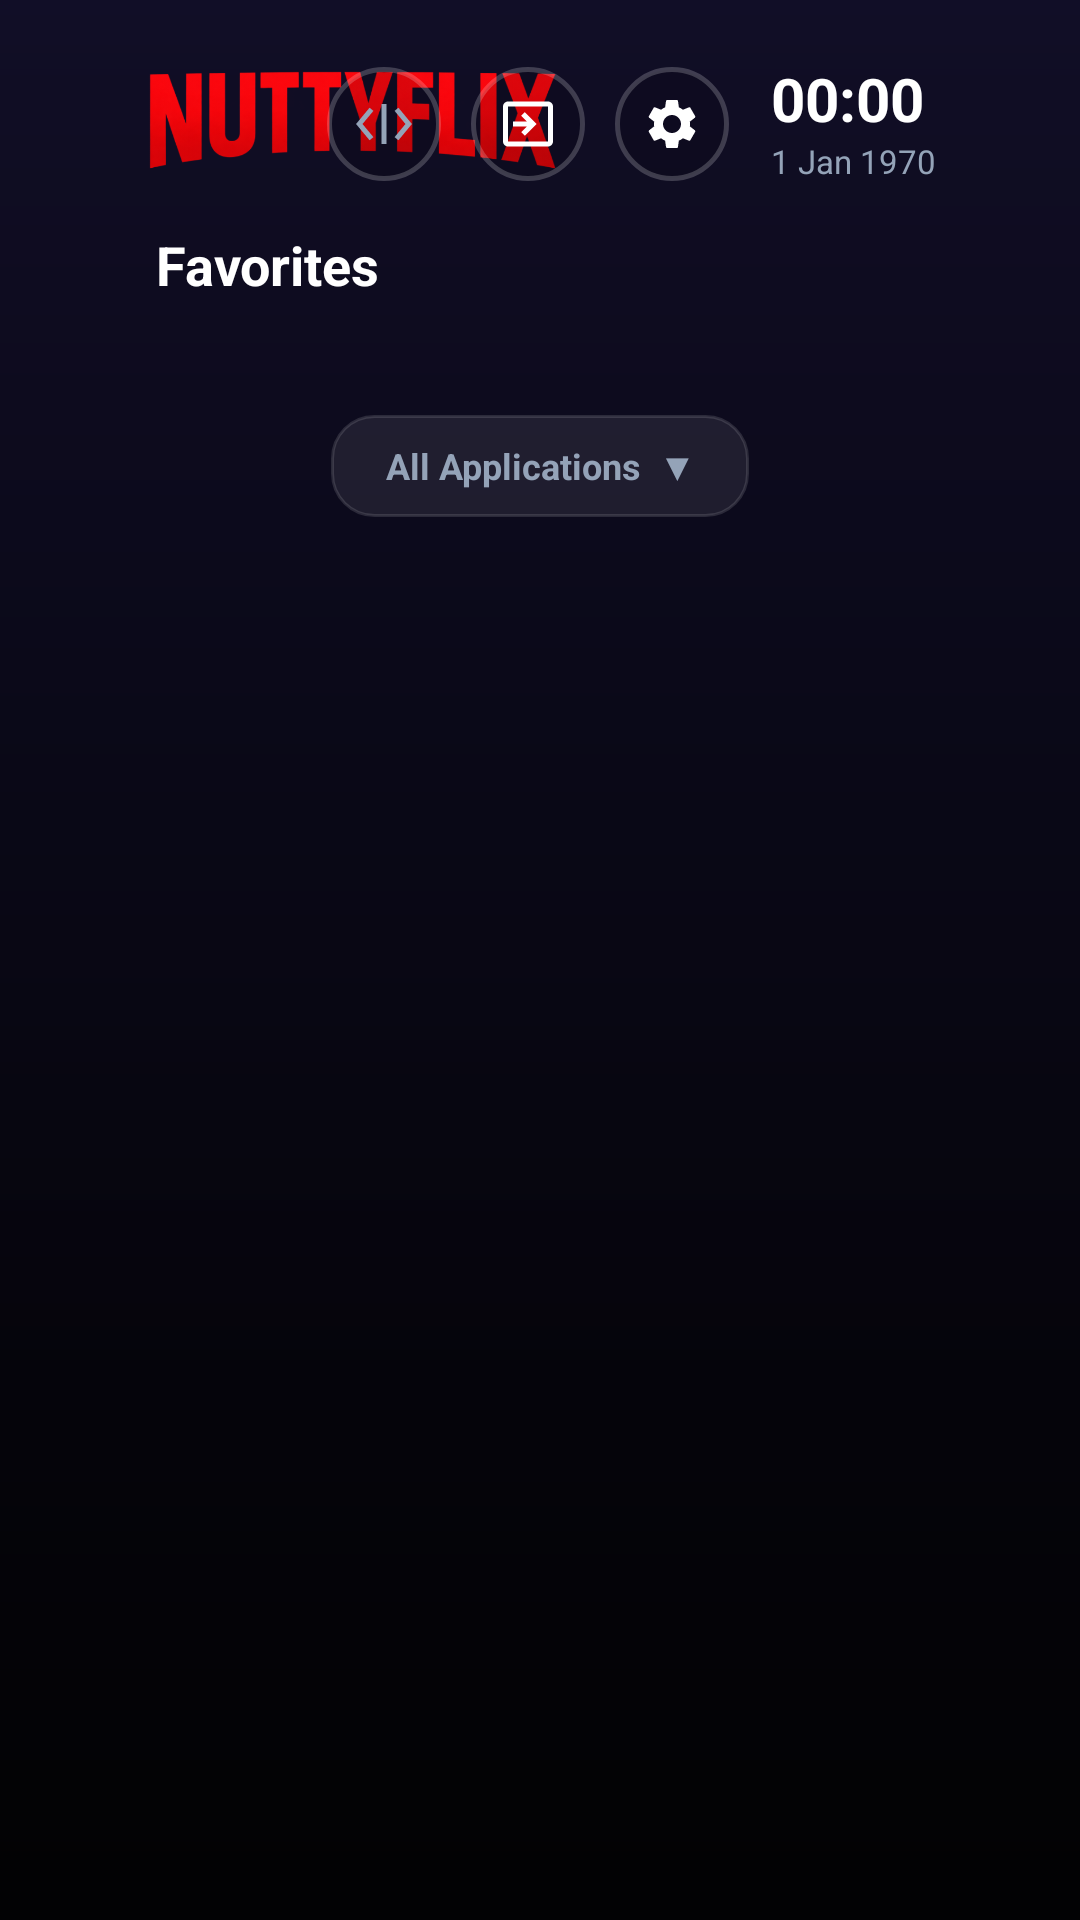

Screen size 1080x1920. Icon name, then its center in pixels as point (x, y):
settings gear: point (672, 124)
